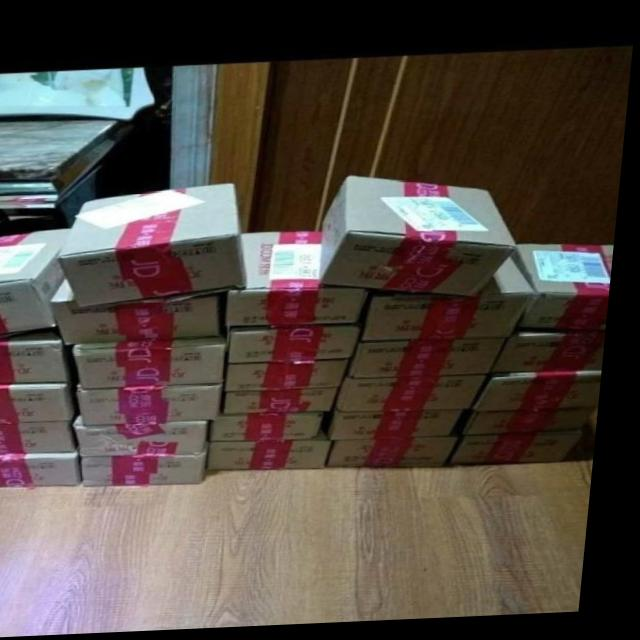box: (325, 179, 524, 300), (64, 185, 252, 308), (232, 235, 379, 329), (371, 263, 542, 343), (56, 278, 227, 345), (516, 250, 618, 335), (0, 228, 79, 335), (81, 339, 232, 390), (357, 344, 513, 381), (86, 387, 230, 425), (342, 380, 497, 415), (82, 418, 218, 456), (480, 375, 609, 414), (234, 330, 368, 365), (499, 336, 611, 377), (0, 328, 77, 385), (459, 439, 591, 471), (469, 412, 606, 441), (89, 456, 215, 487), (338, 441, 468, 471), (232, 364, 357, 394), (218, 443, 340, 473), (0, 382, 87, 422), (339, 416, 471, 442), (220, 415, 334, 443), (231, 390, 349, 416), (0, 421, 87, 454), (0, 453, 89, 485)
